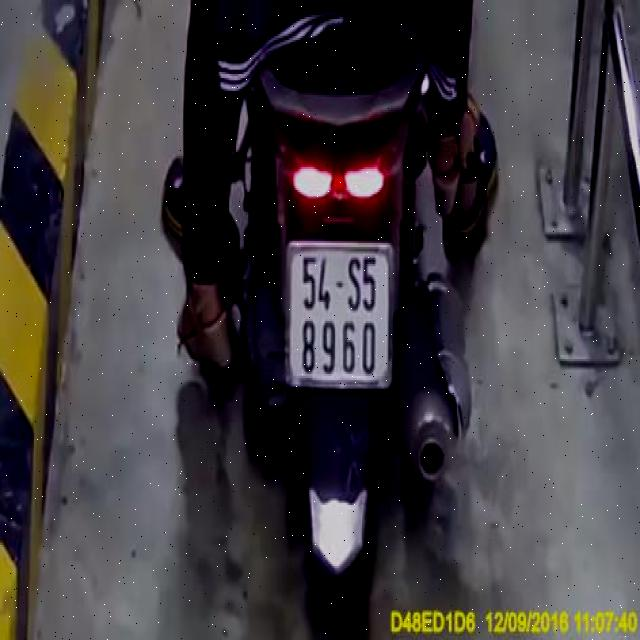0: (361, 321, 380, 375)
4: (316, 255, 331, 312)
5: (361, 256, 379, 320), (300, 254, 317, 308)
6: (340, 320, 358, 374)
8: (302, 320, 318, 378)
9: (323, 320, 337, 379)
S: (346, 258, 363, 314)
